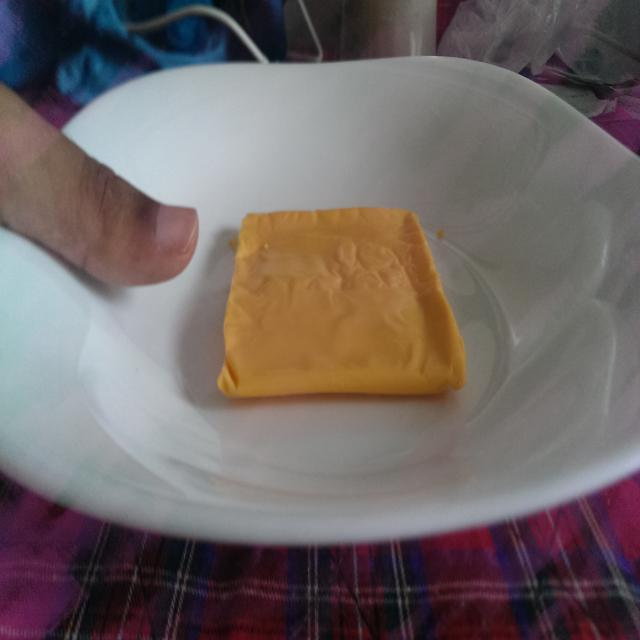Cheese: (214, 195, 472, 418)
Finger: (73, 132, 204, 305)
